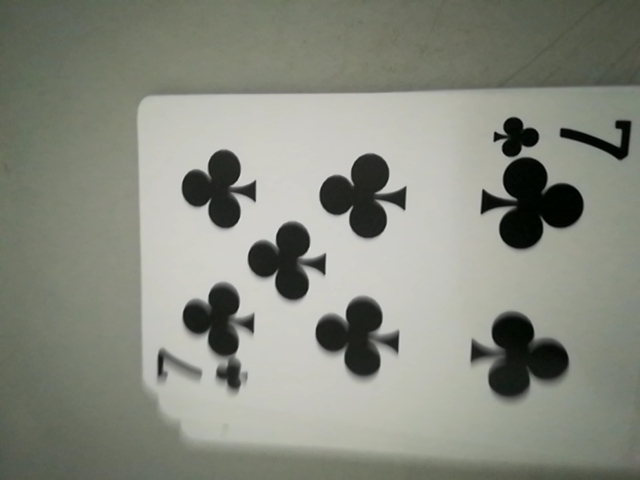mh 7: (484, 106, 640, 162)
